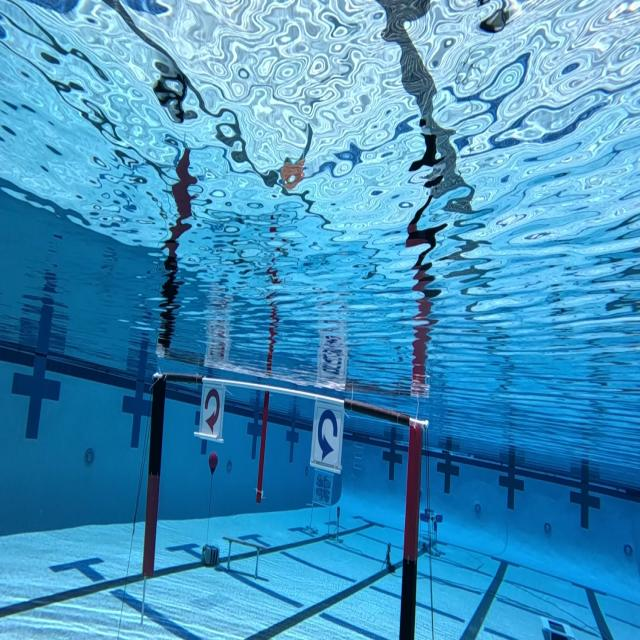blue_side: (308, 390, 352, 478)
red_side: (193, 366, 227, 447)
